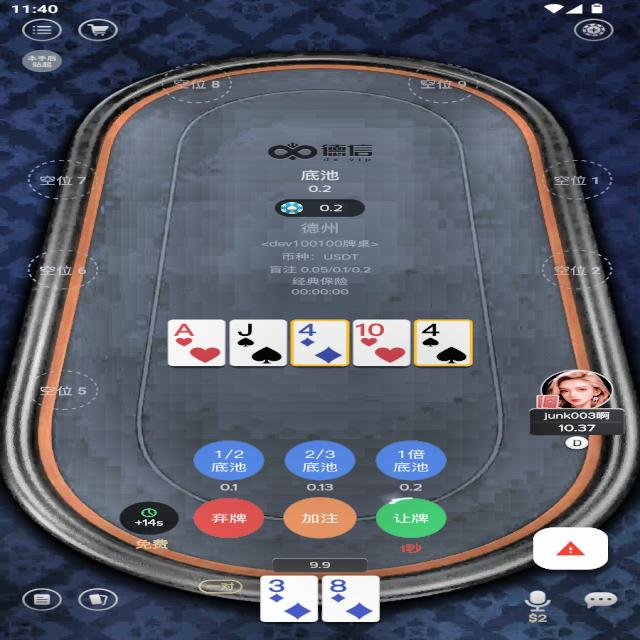10h: (355, 321, 386, 338)
3f: (264, 578, 290, 594)
4f: (295, 321, 320, 337)
4s: (418, 322, 444, 338)
8f: (326, 578, 350, 594)
Ah: (172, 322, 198, 338)
Js: (234, 321, 258, 338)
